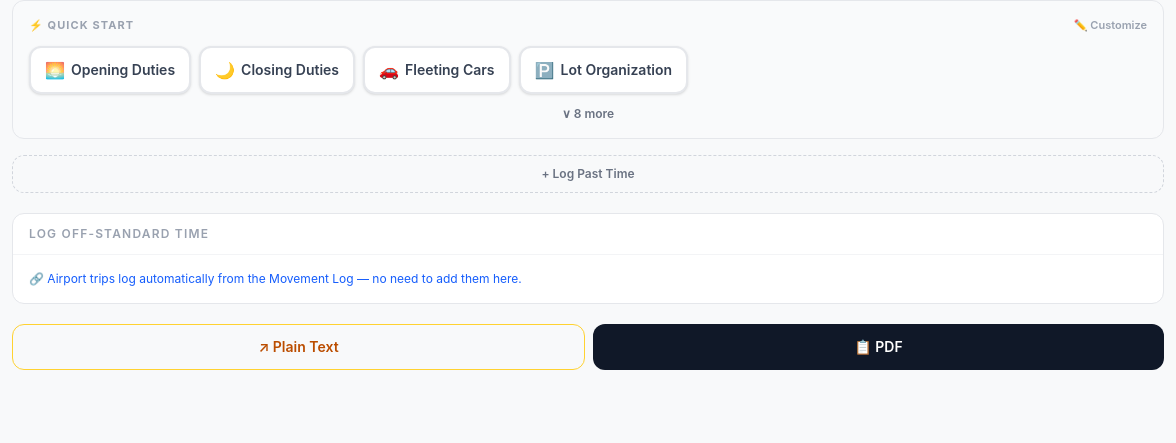
Test: OffStandardTimeLog Component › shows the top 4 quick-starts with the rest behind a chevron
The image size is (1176, 443).
expect the text "Opening Duties" is shown: met, box [71, 60, 175, 80]
expect the text "Closing Duties" is shown: met, box [241, 60, 339, 80]
Click the button "∨ 8 more". click: coordinates (588, 114)
box: [29, 106, 1147, 122]
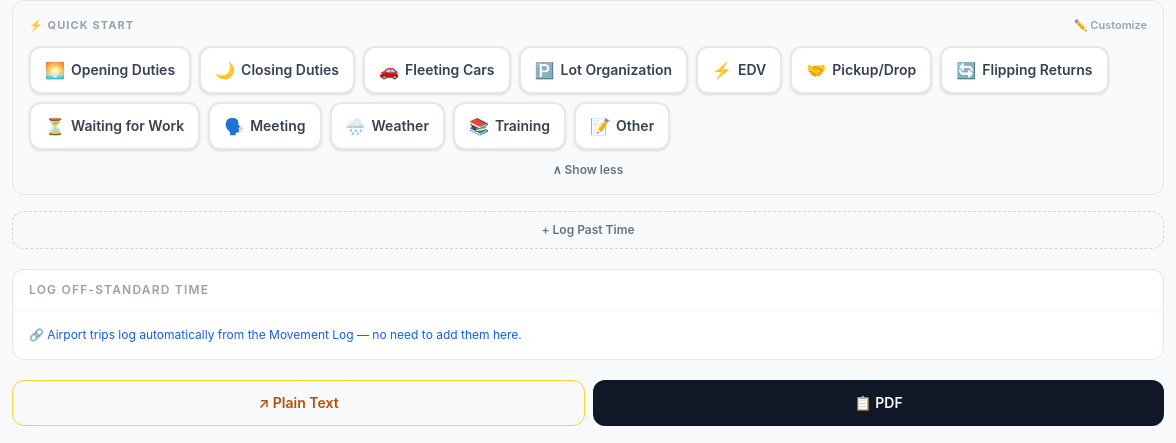
expect the text "Meeting" is shown: met, box [250, 116, 306, 136]
expect the text "Weather" is shown: met, box [372, 116, 429, 136]
expect the text "Other" is shown: met, box [616, 116, 654, 136]
